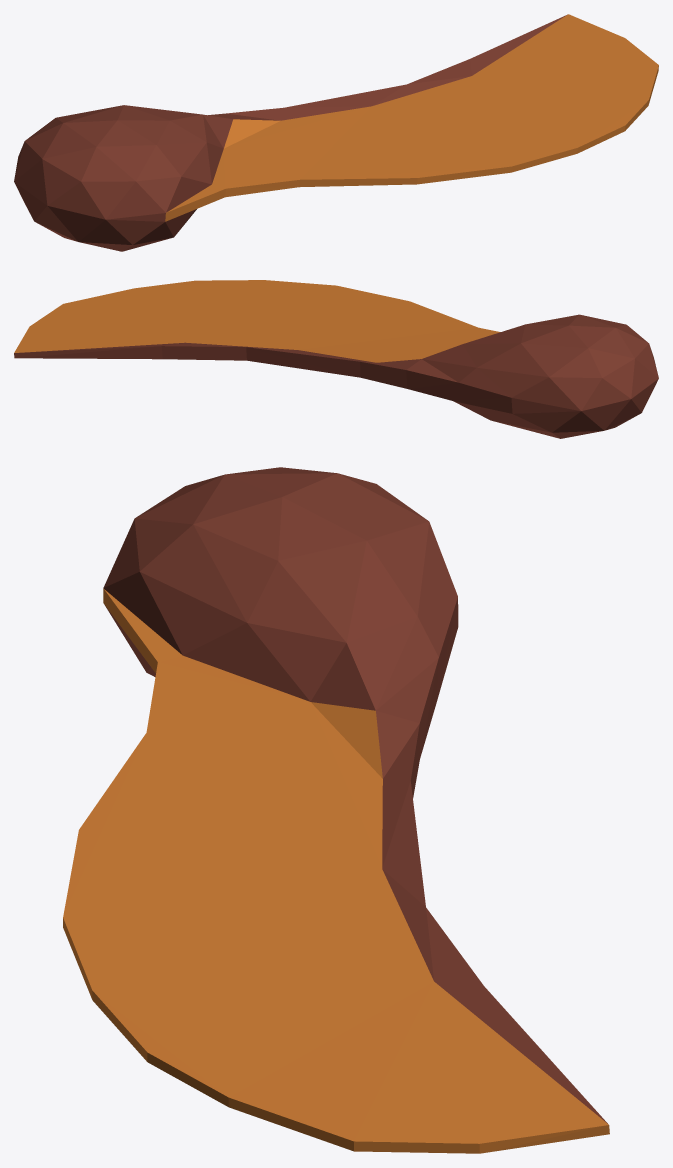
The model's file is mapleSeed.glb.
3 renders of one model, top to bottom at view 1: azimuth 30°, elevation 25°; view 2: azimuth 150°, elevation 25°; view 3: azimuth 270°, elevation 25°, orthographic. The views are drawn at different scales.
Parts seen in each view (by area): view 1: mapleSeed; view 2: mapleSeed; view 3: mapleSeed.
Boxes of the visible parts, bbox=[...] form: mapleSeed: bbox=[14, 14, 658, 251]; mapleSeed: bbox=[14, 280, 658, 438]; mapleSeed: bbox=[63, 467, 609, 1153].
Bounding box in the file's own units: 4.46 × 0.7587 × 1.87.
